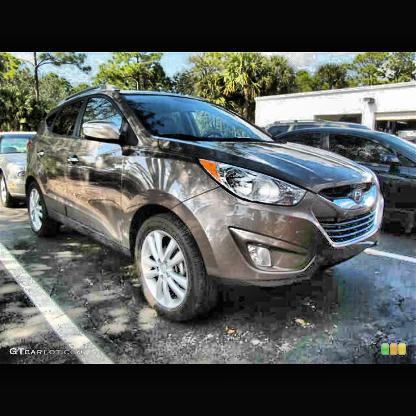Hyundai Tucson SUV 2012: (25, 86, 385, 326)
